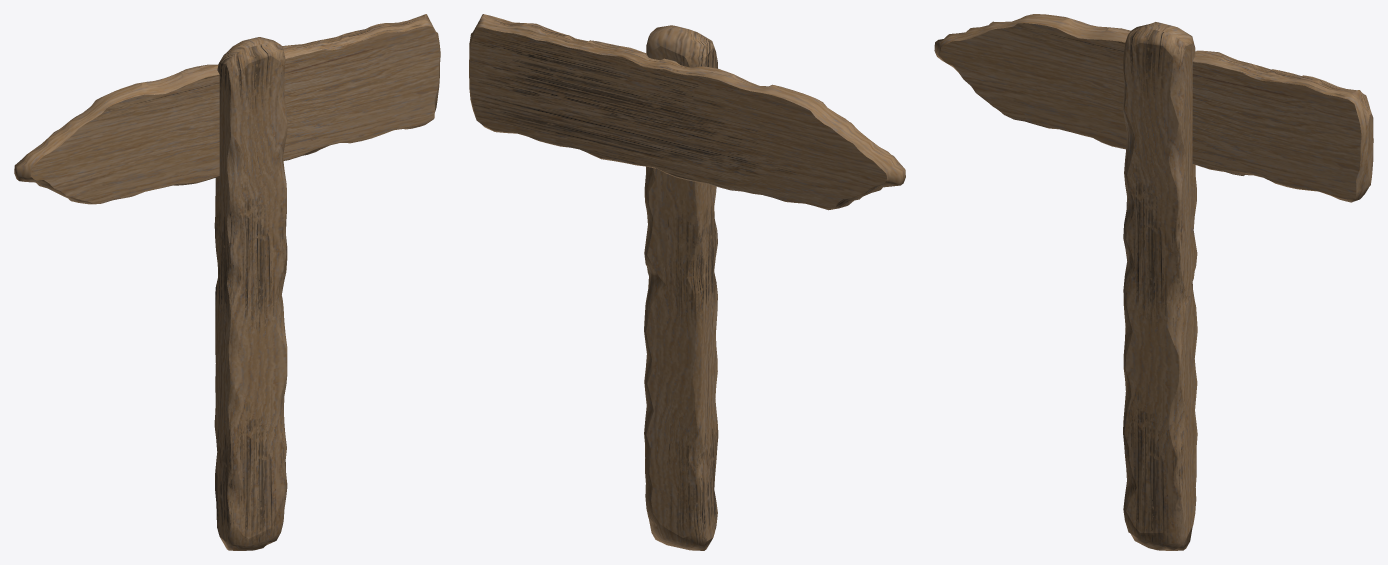
The model's file is sign.fbx.
3 views of the same model, side by side, from view 1: azimuth 30°, elevation 25°; view 2: azimuth 150°, elevation 25°; view 3: azimuth 330°, elevation 25° (orthographic). The views are drawn at different scales.
Visible parts, largest first — view 1: Top, Base; view 2: Top, Base; view 3: Top, Base.
Boxes of the visible parts, x1,y1,x2,y2 form: Top: (14, 14, 440, 204); Base: (214, 37, 287, 550); Top: (469, 14, 905, 210); Base: (644, 25, 718, 550); Top: (934, 14, 1373, 202); Base: (1123, 22, 1197, 550).
Bounding box in the file's own units: 314 × 360 × 30.1.
Materials: 1 (1 with a texture image).
